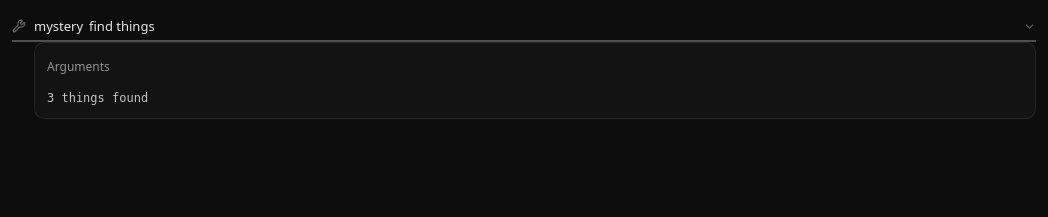
Test: tool renderers › generic: collapsed when done, expands to arguments and result
The width and height of the screenshot is (1048, 217).
Earlier steps of the test are not shown.
Expected: the text "3 things found" is shown, [47,91,148,105]
Expected: the text "\"limit\": 3" is not shown
Click the button "Arguments".
click(78, 66)  # box [39,53,1031,81]
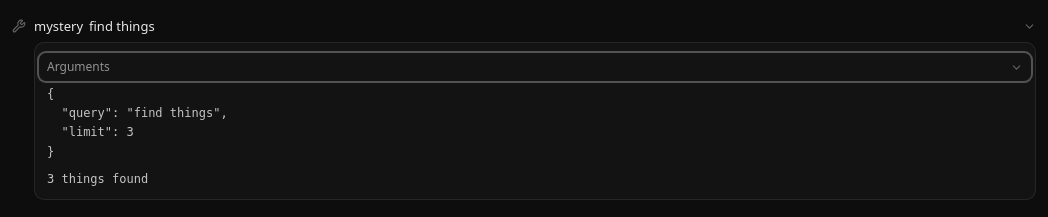
Expected: the text "{ \"query\": \"find things\", \"limit\": 3 }" is shown, [47,87,228,159]
